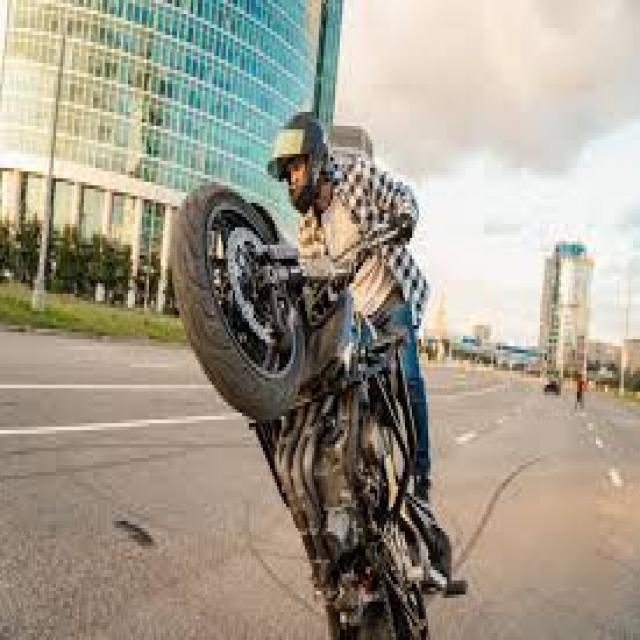Wheeling: (163, 89, 522, 624)
